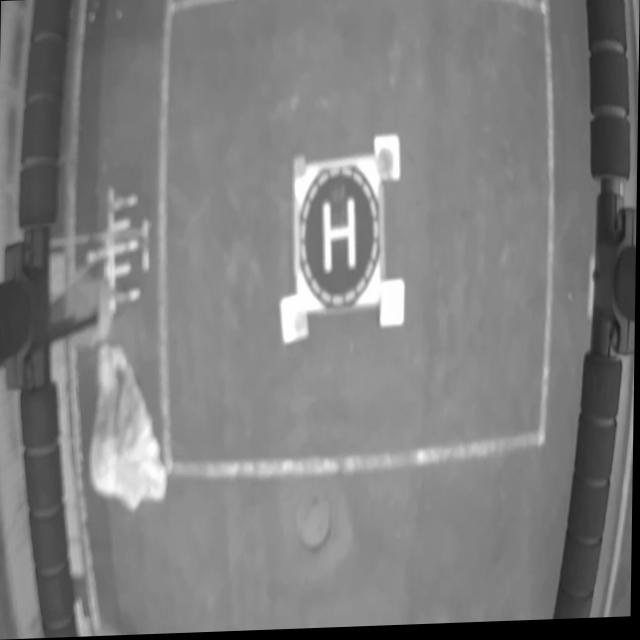Helipad: (322, 197, 356, 272)
